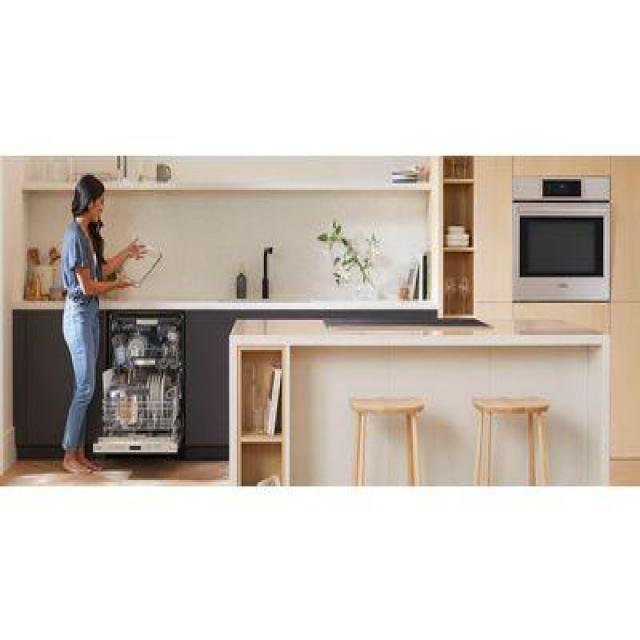dishwasher: (94, 312, 186, 462)
